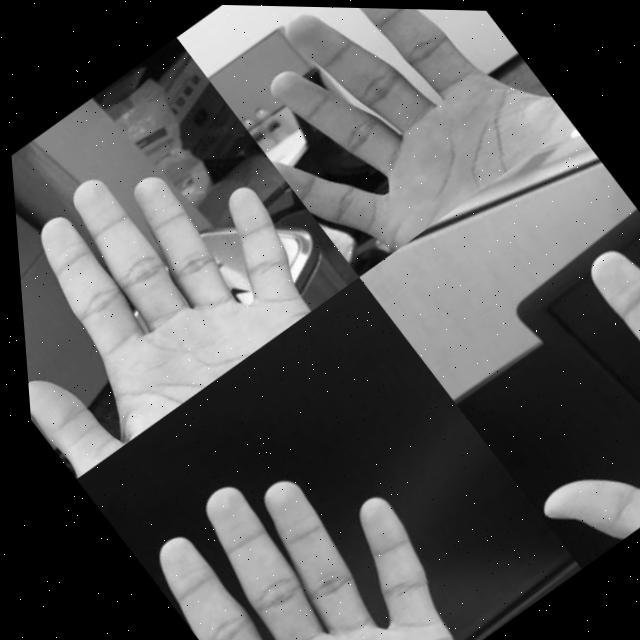hand: (6, 95, 343, 482), (199, 3, 579, 278), (109, 403, 482, 640), (403, 194, 640, 567)
